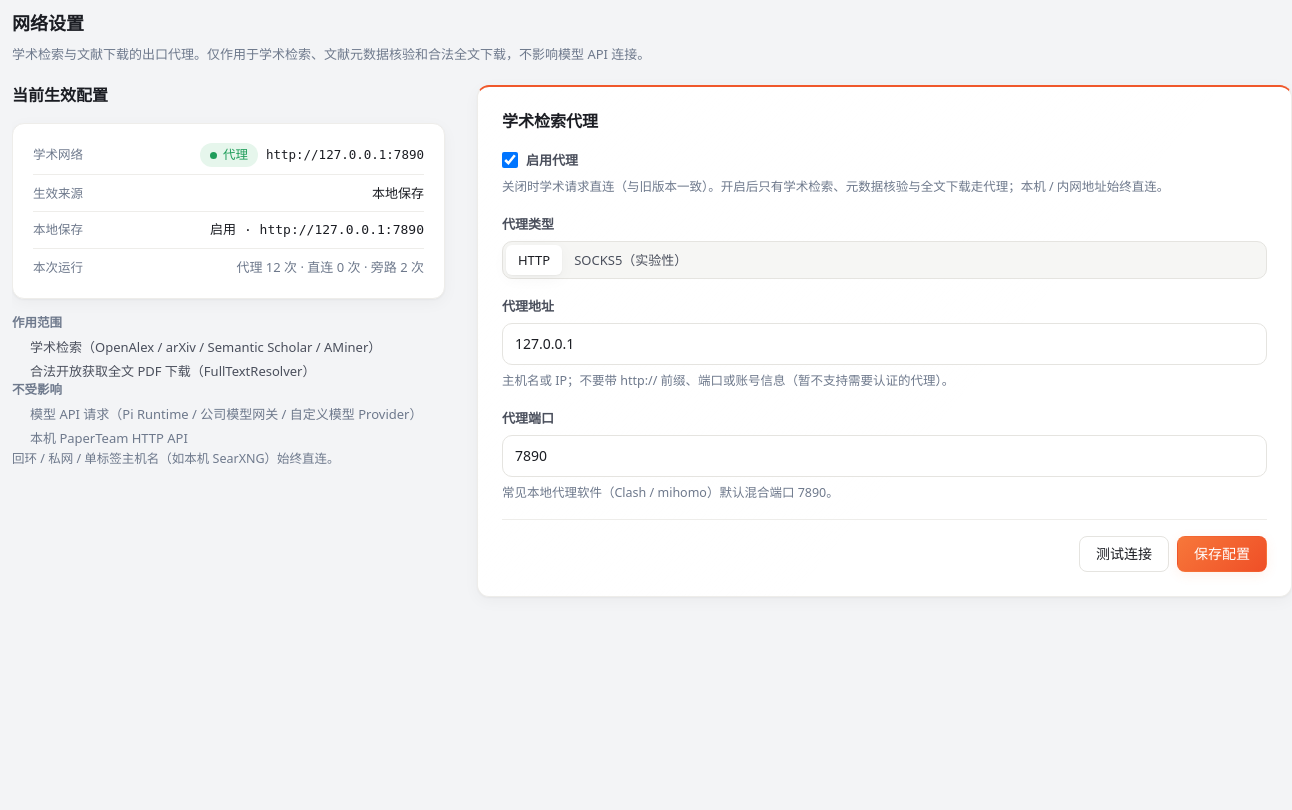
Test: NetworkSettingsPage › 测试连接：用表单值发起；逐项渲染状态与限流说明；摘要可见
The image size is (1292, 810).
Expected: the form with test id "network-form" is shown, [477, 86, 1291, 597]
Expected: the checkbox with test id "network-enabled" is checked, [502, 152, 518, 168]
Click the button with test id "network-test": (1124, 554) [1079, 536, 1169, 572]
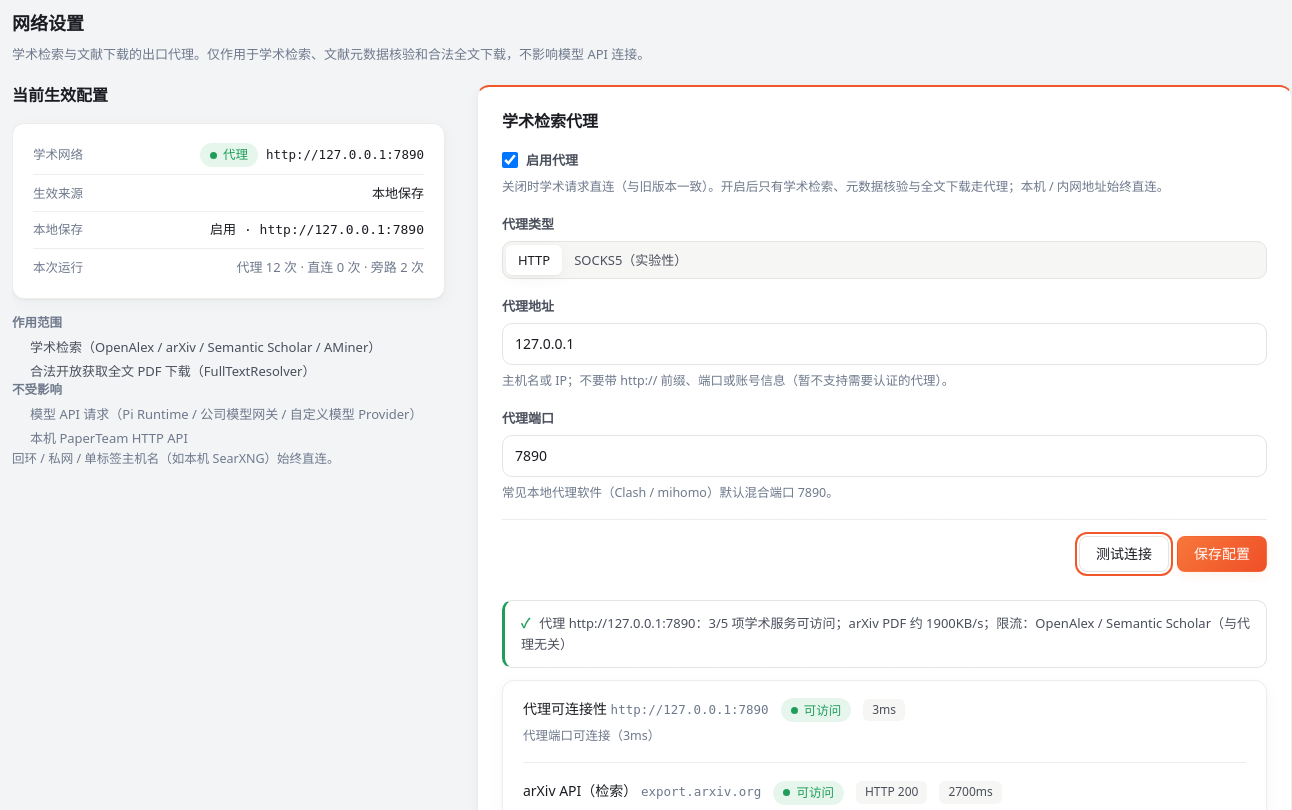
Now the element with test id "network-test-result" shows "3/5 项学术服务可访问", box [521, 614, 1250, 653]
Now the text with test id "network-check-status-proxy" reads "可访问", box [804, 702, 841, 718]
